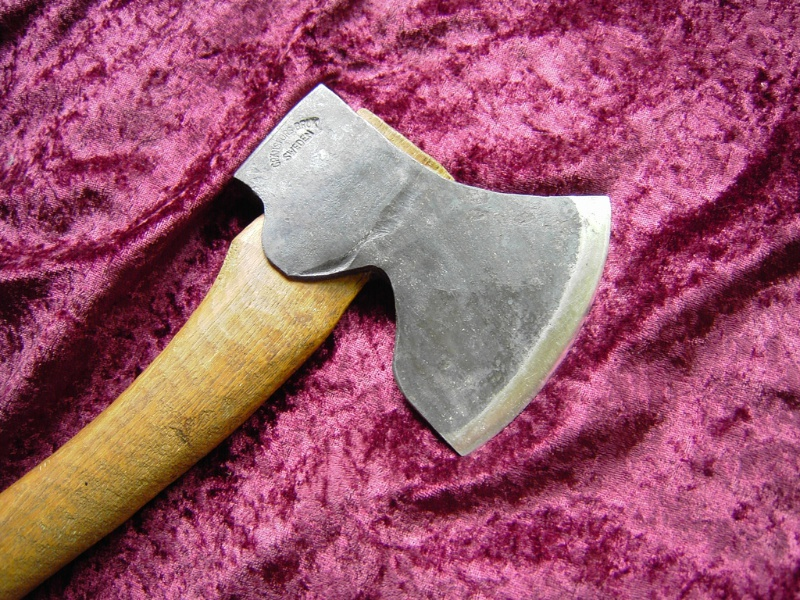axe: (216, 78, 616, 461)
